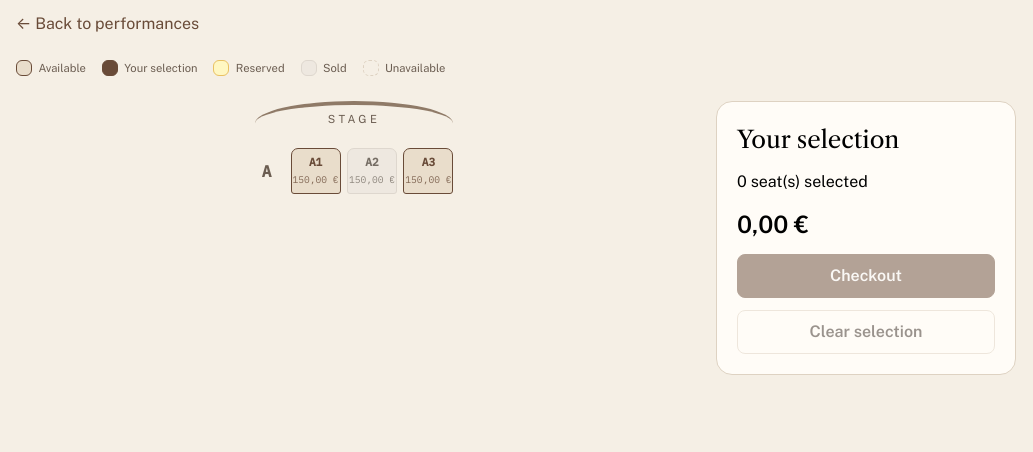
Test: SeatSelectionScreen › signed in › says so when a clicked seat is taken by someone else first
Click the button named "Seat A1": (316, 171) [291, 148, 341, 194]
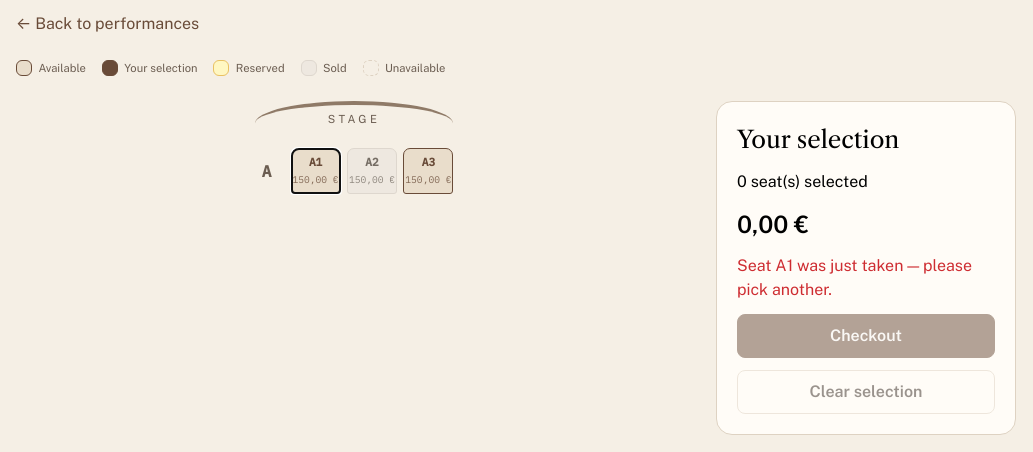
Now the text "Seat A1 was just taken — please pick another." is shown, box [737, 254, 995, 302]
